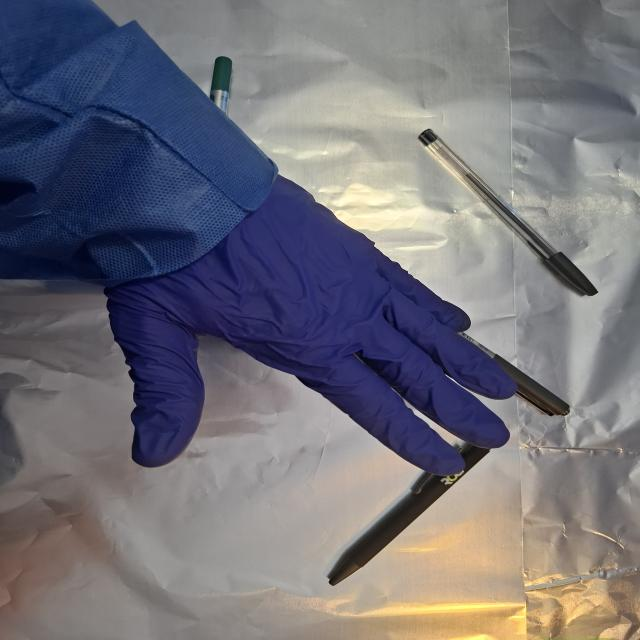glove_on: (98, 172, 524, 478)
